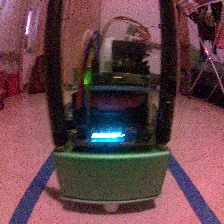rob: (50, 37, 171, 213)
